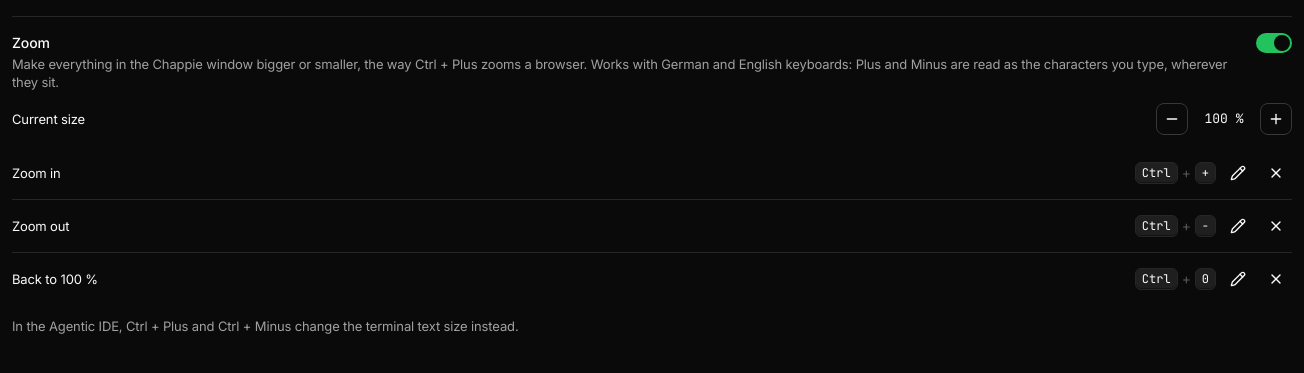
Scenario: AppZoomKeybinds › refuses the quick switcher's chord
Click the button with test id "app-zoom-record-reset" at (1238, 279), box [1222,263,1254,295]
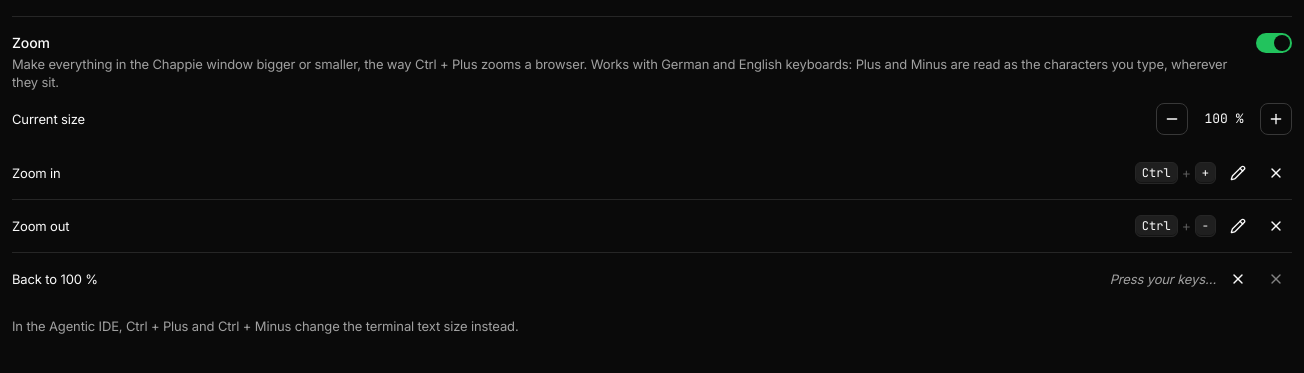
Press Space
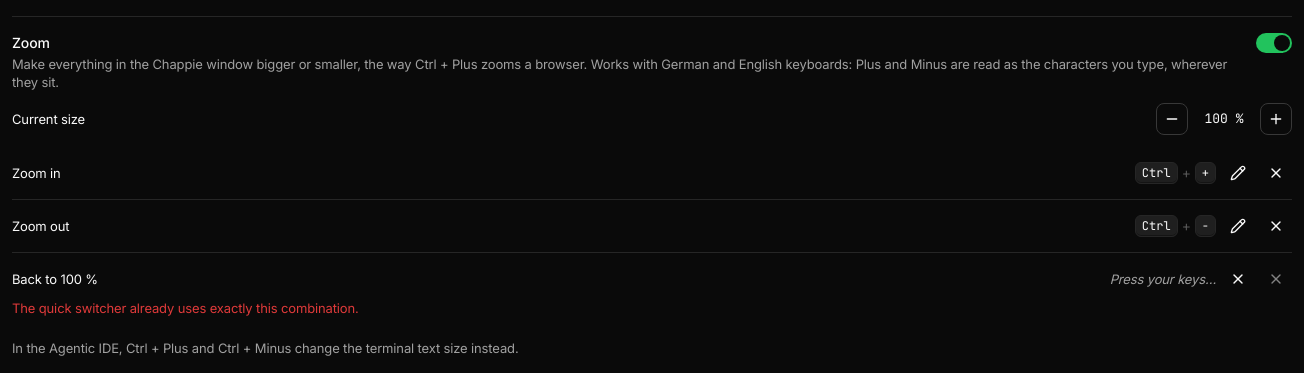
Result: the message shows "quick switcher" at [12,300,359,316]
